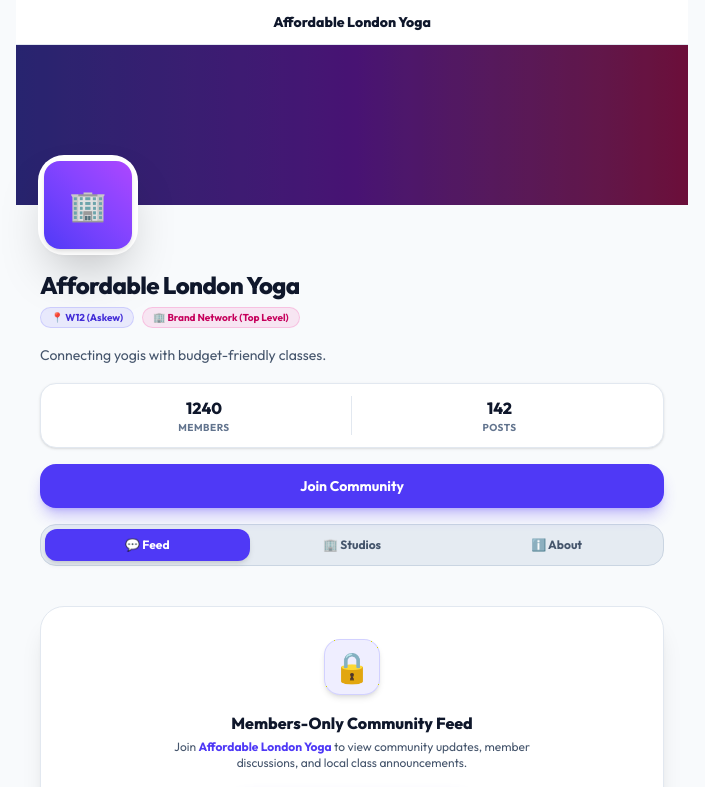
Test: UnifiedProfileView › renders Brand profile with single Join button and studio branches tab
expect the 1st heading "Affordable London Yoga" is shown: met, box top-left (273, 12), bottom-right (431, 32)
expect the text "🏢 Brand Network (Top Level)" is shown: met, box top-left (142, 307), bottom-right (300, 328)
Switch to Studios tab
Click the button "🏢 Studios".
click(352, 545)  # box top-left (250, 529), bottom-right (454, 561)
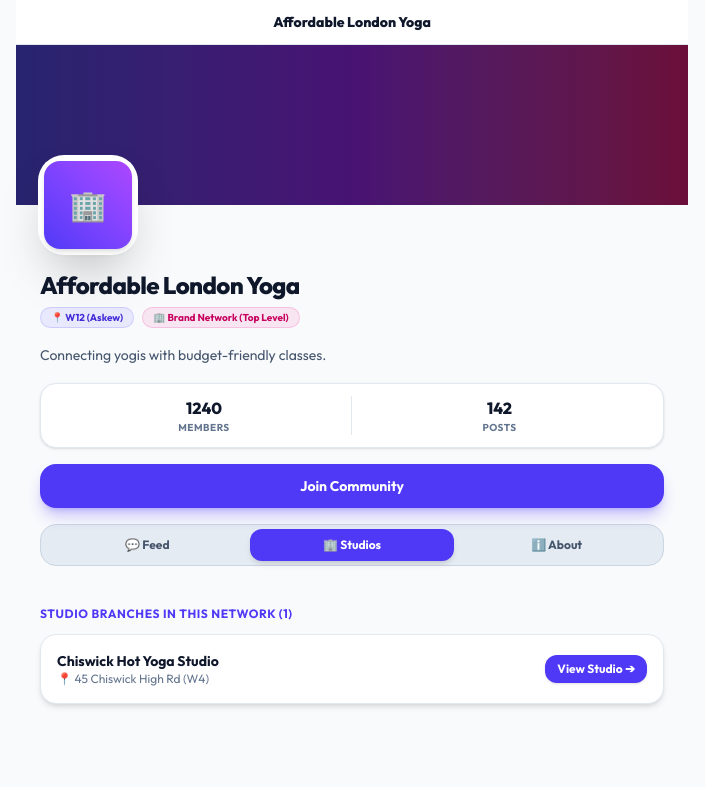
expect the heading "Chiswick Hot Yoga Studio" is shown: met, box top-left (57, 651), bottom-right (219, 671)
